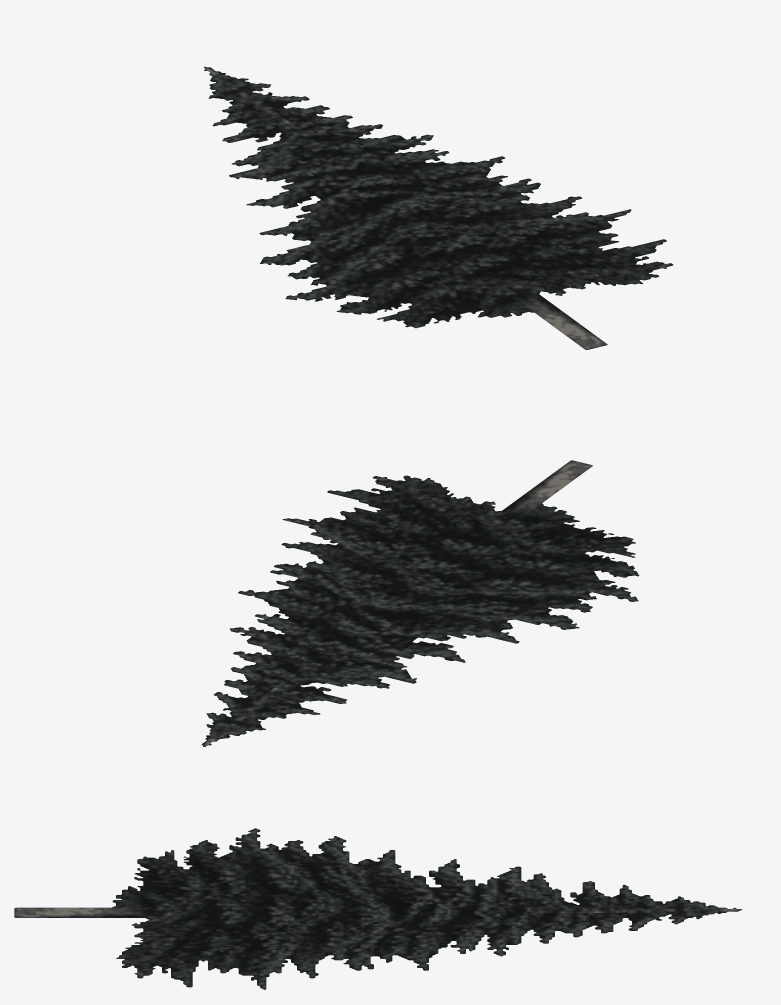
File: SM_EC_Tree_Card_04.fbx
The picture shows the model from 3 angles, top to bottom: view 1: azimuth 30°, elevation 25°; view 2: azimuth 150°, elevation 25°; view 3: azimuth 270°, elevation 25°; orthographic projection. The views are drawn at different scales.
Visible parts, largest first — view 1: SM_EC_Tree_Card_04; view 2: SM_EC_Tree_Card_04; view 3: SM_EC_Tree_Card_04.
Boxes of the visible parts, bbox=[...] form: SM_EC_Tree_Card_04: bbox=[204, 66, 673, 349]; SM_EC_Tree_Card_04: bbox=[201, 460, 639, 746]; SM_EC_Tree_Card_04: bbox=[14, 828, 742, 989].
Size of the model in its own units: 1.95 by 3.82 by 2.89e-09.
